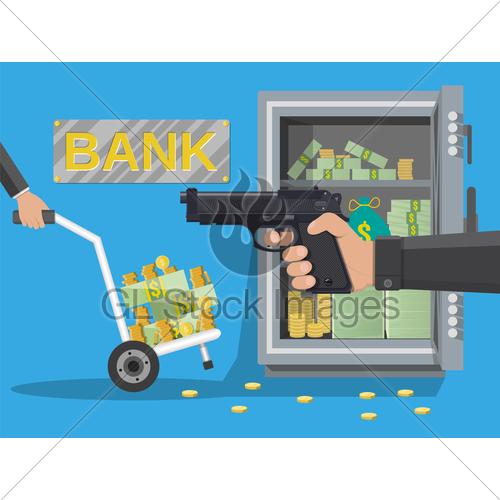pistol: (167, 166, 380, 318)
